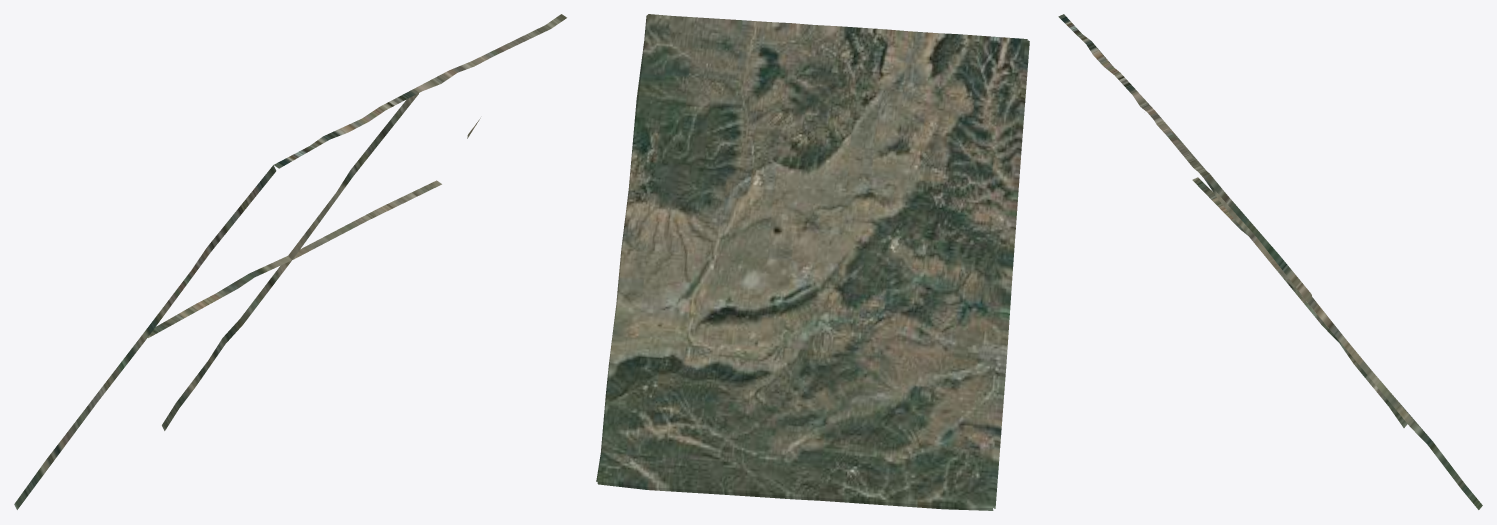
The picture shows the model from 3 angles, left to right: view 1: azimuth 30°, elevation 25°; view 2: azimuth 150°, elevation 25°; view 3: azimuth 270°, elevation 25°; orthographic projection. The views are drawn at different scales.
Size of the model in its own units: 306717 by 261161 by 263974.
1 material, 1 textured.
